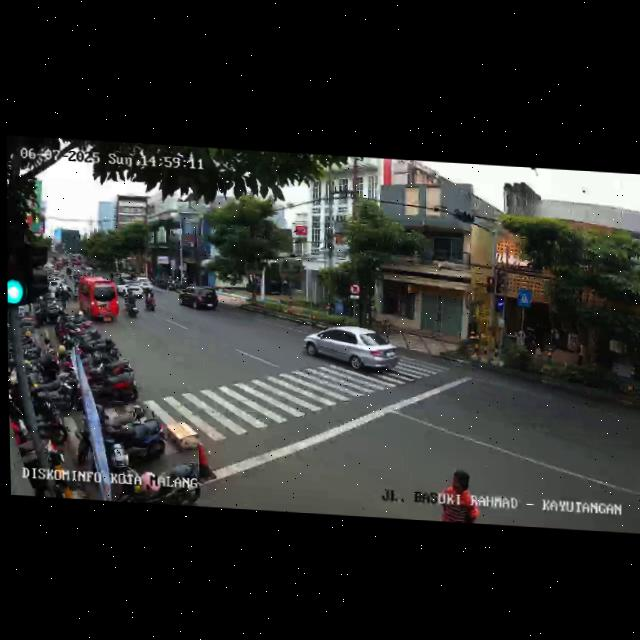car: (299, 320, 399, 381), (77, 276, 120, 324), (178, 285, 218, 312), (122, 277, 155, 294)
motorcycle: (125, 289, 139, 317), (143, 287, 157, 312)
person: (437, 467, 483, 524)
